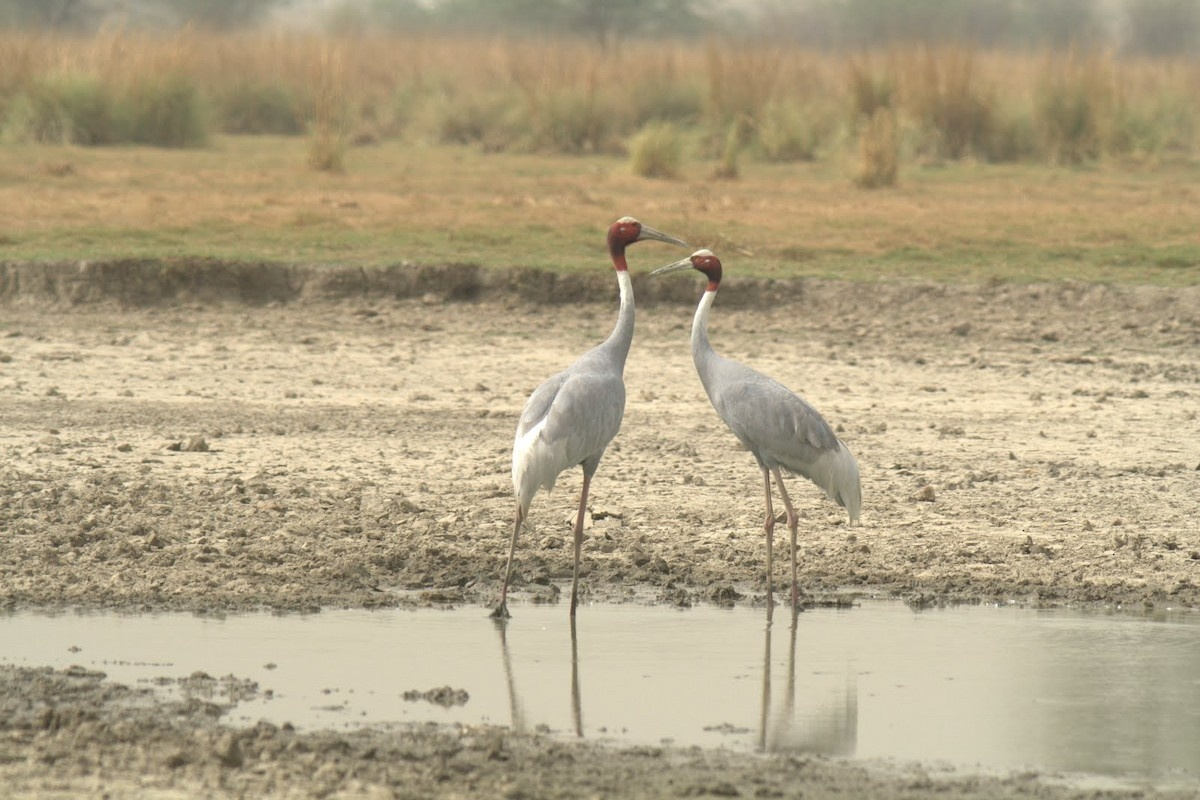crane: (488, 215, 686, 605), (654, 240, 876, 558)
